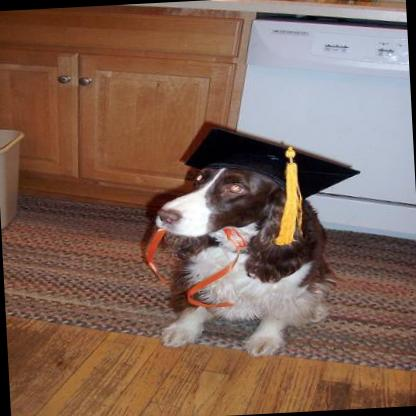English_springer: (144, 114, 334, 356)
